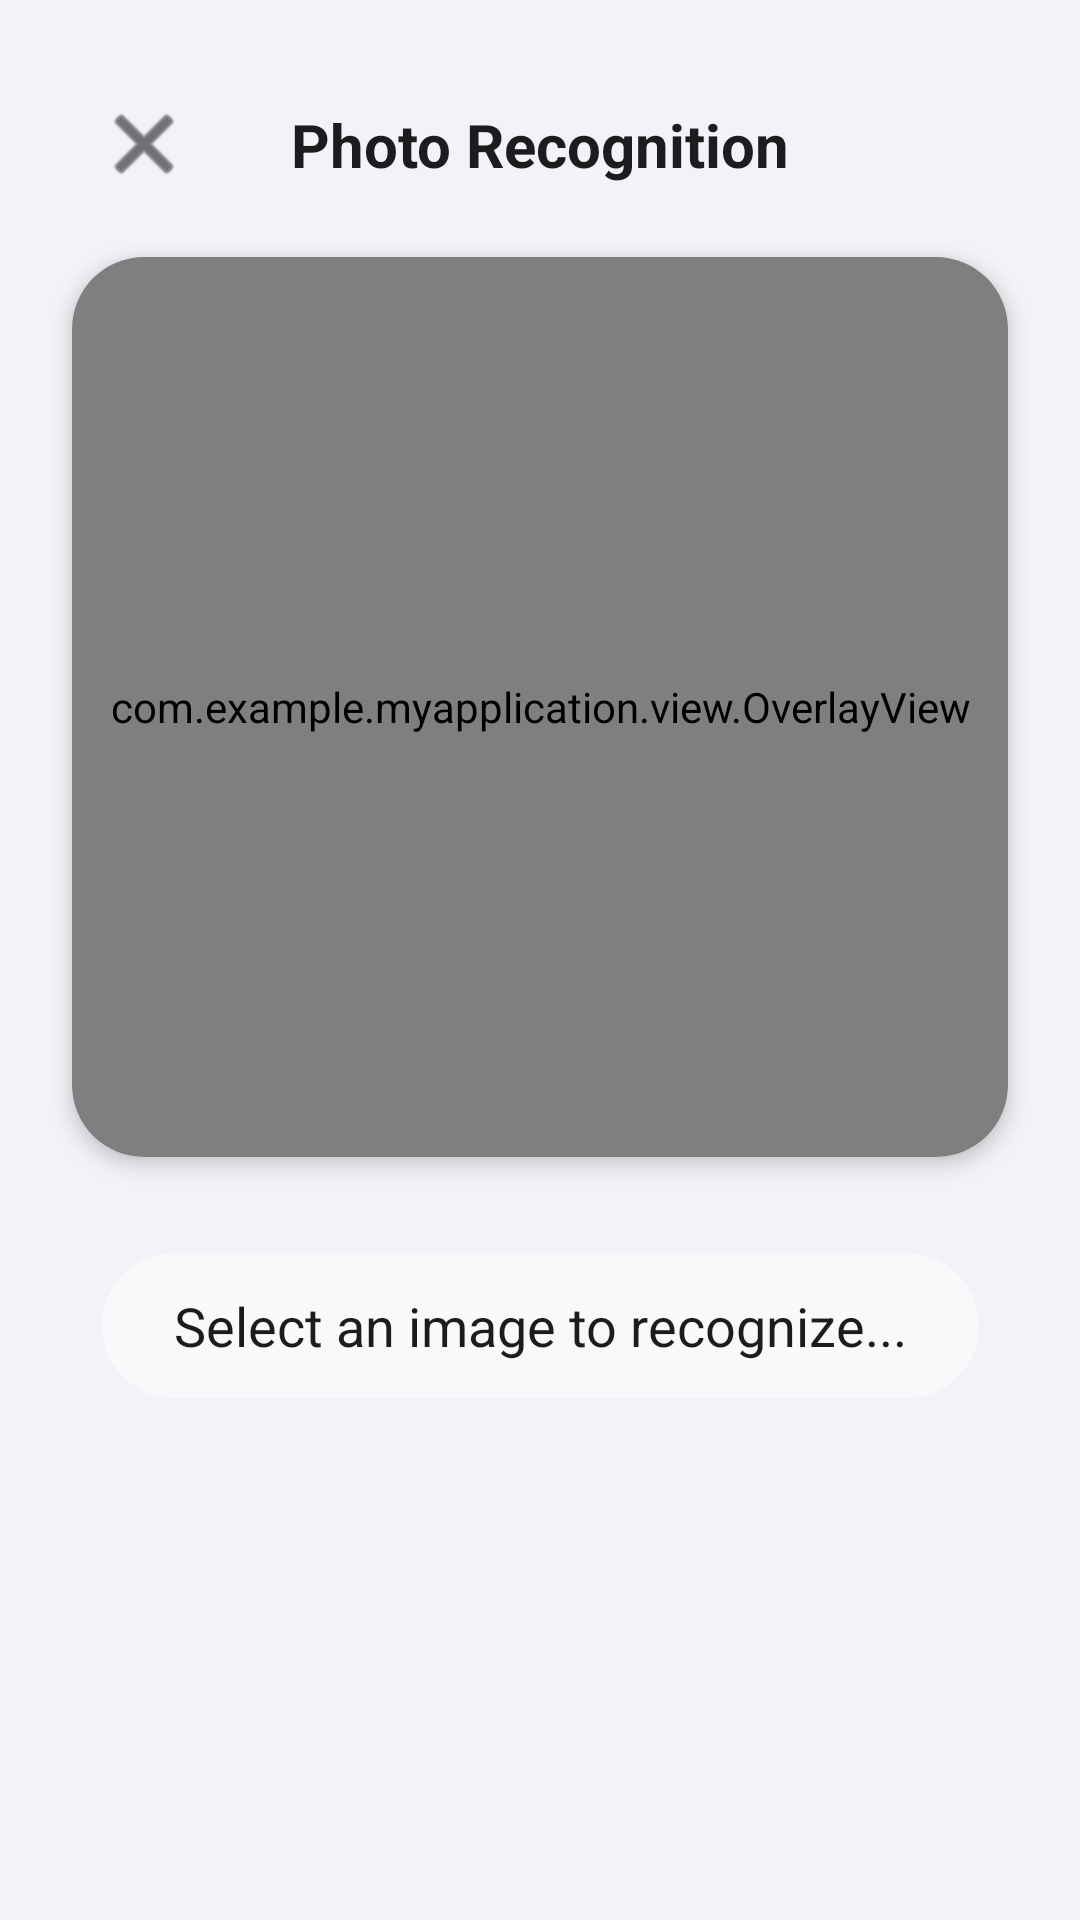

Icon bounding boxes for this 1080×1920 phone screenshot, format (x1, y1, x2, y2):
close clear cancel: (114, 114, 174, 174)
